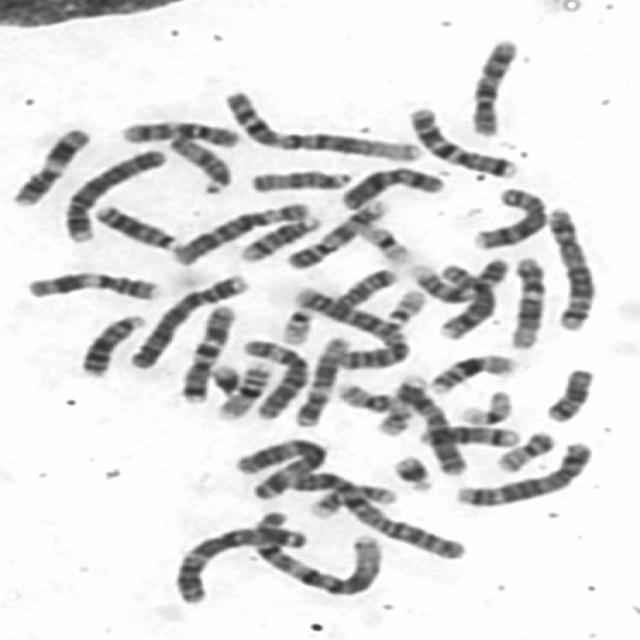A1: (216, 84, 427, 165), (245, 504, 388, 598)
A2: (282, 463, 472, 562), (286, 282, 416, 371)
A3: (166, 519, 313, 605), (228, 432, 332, 501)
B4: (124, 267, 252, 371), (56, 142, 170, 245)
B5: (448, 434, 598, 508), (542, 200, 600, 332)
C10: (462, 32, 523, 138), (114, 114, 244, 150)
C11: (5, 121, 94, 208), (20, 265, 165, 302)
C12: (287, 331, 354, 429), (502, 251, 548, 350)
C6: (165, 197, 316, 266), (235, 333, 313, 422)
C7: (400, 100, 520, 180), (173, 298, 241, 404)
C8: (467, 182, 551, 251), (433, 257, 502, 341)
C9: (280, 194, 390, 272), (402, 252, 512, 304)
D13: (75, 307, 151, 378), (87, 199, 182, 252)
D14: (233, 211, 324, 263), (409, 419, 524, 449)
D15: (164, 129, 238, 195), (244, 163, 355, 193)
E16: (422, 348, 522, 395), (212, 357, 276, 421)
E17: (304, 477, 402, 520), (369, 371, 428, 437)
E18: (539, 361, 599, 424), (330, 263, 402, 310)
F19: (352, 218, 416, 265), (452, 385, 516, 426)
F20: (489, 425, 560, 474), (331, 377, 396, 414)
G21: (386, 448, 438, 494), (206, 358, 244, 398)
G22: (379, 284, 430, 326), (275, 301, 318, 346)
X: (388, 373, 471, 477), (334, 160, 450, 211)
